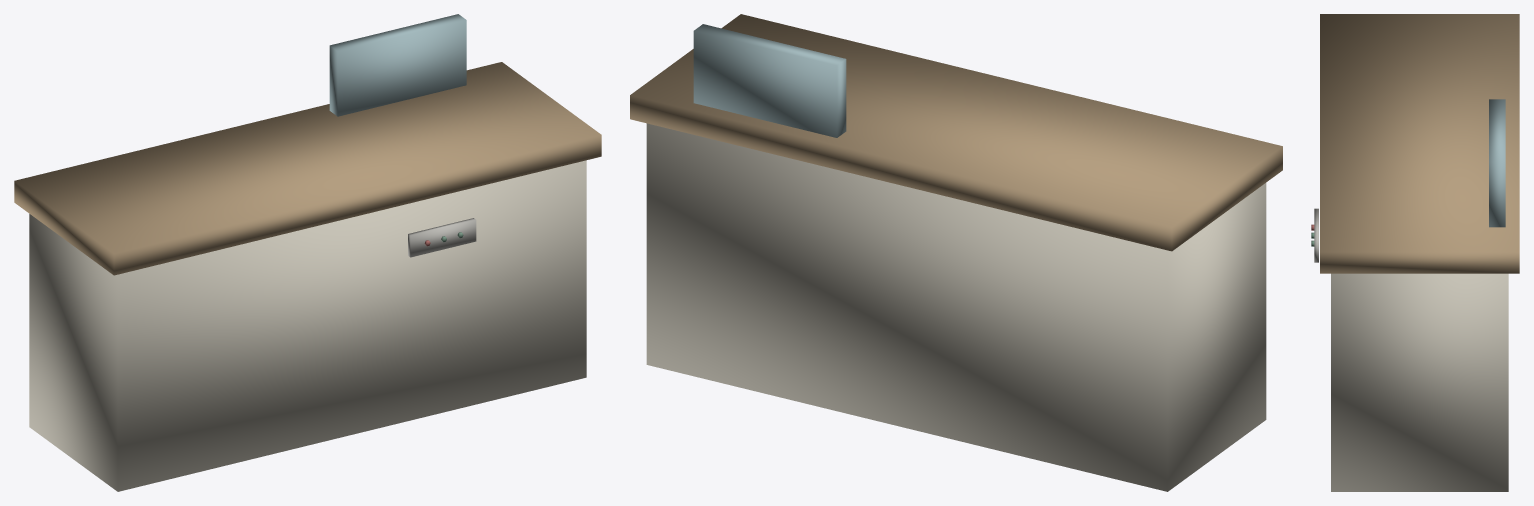
The model's file is service_counter__compact.glb.
The picture shows the model from 3 angles, left to right: view 1: azimuth 30°, elevation 25°; view 2: azimuth 150°, elevation 25°; view 3: azimuth 270°, elevation 25°; orthographic projection. The views are drawn at different scales.
Visible parts, largest first — view 1: world; view 2: world; view 3: world.
Boxes of the visible parts, x1,y1,x2,y2 form: world: [14, 14, 601, 491]; world: [630, 14, 1282, 491]; world: [1311, 14, 1519, 491].
Size of the model in its own units: 1.75 by 1.06 by 0.6459.
